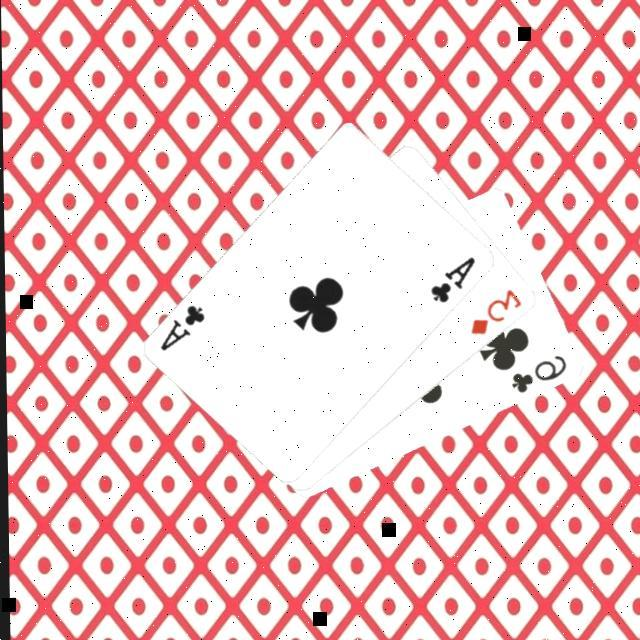3D: (463, 285, 523, 337)
6C: (505, 351, 568, 396)
AC: (424, 252, 476, 306), (154, 300, 206, 354)
